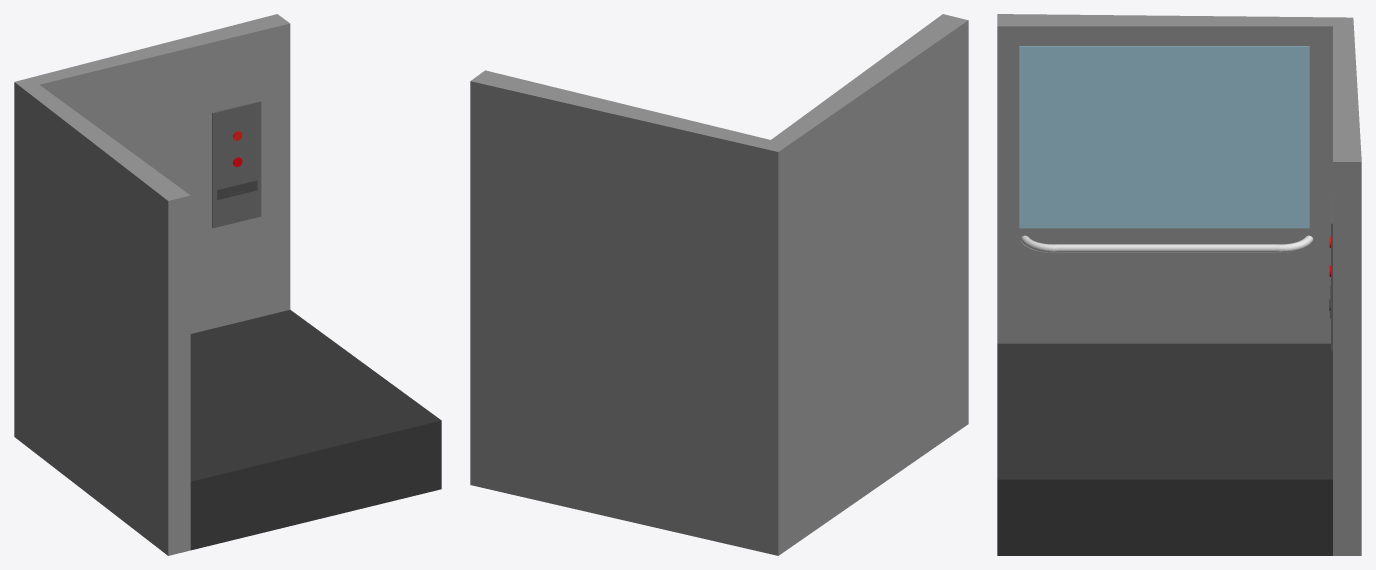
The model's file is asansor.fbx.
3 views of the same model, side by side, from view 1: azimuth 30°, elevation 25°; view 2: azimuth 150°, elevation 25°; view 3: azimuth 270°, elevation 25° (orthographic). The views are drawn at different scales.
Parts seen in each view (by area): view 1: Cube, Cube.002; view 2: Cube; view 3: Cube, Cube.001, Cylinder.
Boxes of the visible parts, box(x1,y1,x2,y2) form: Cube: box(14, 14, 441, 555); Cube.002: box(212, 101, 261, 228); Cube: box(470, 14, 968, 555); Cube: box(997, 14, 1361, 555); Cube.001: box(1019, 46, 1309, 228); Cylinder: box(1020, 235, 1313, 252).
Bounding box in the file's own units: 811 × 1005 × 844.
